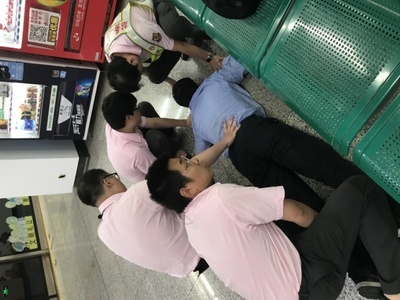falling: (172, 59, 388, 202)
